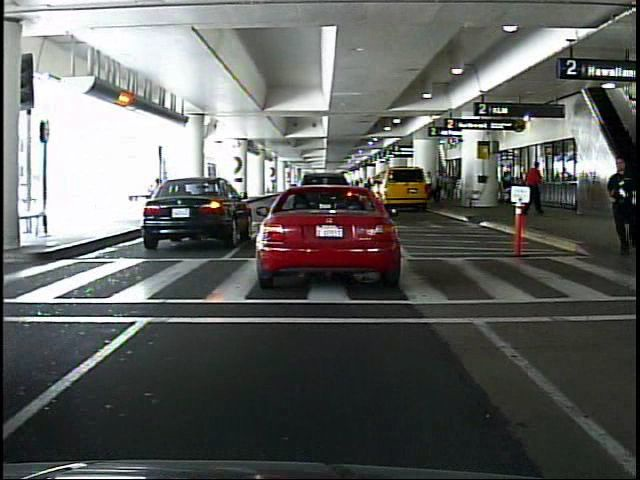person: (604, 154, 633, 254), (524, 159, 543, 216), (423, 166, 436, 202)
